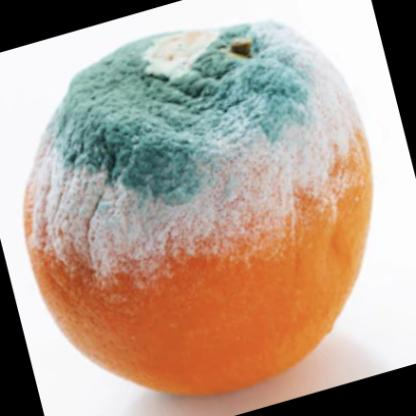rotten: (25, 24, 374, 390)
